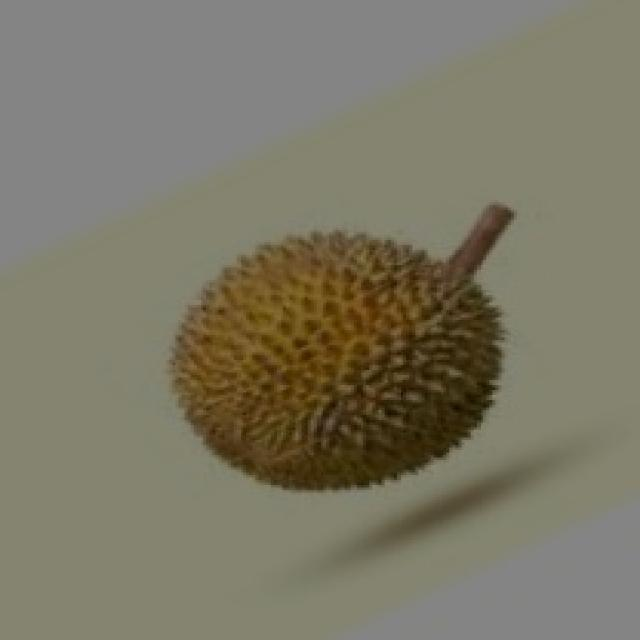fruit: (132, 192, 536, 530)
